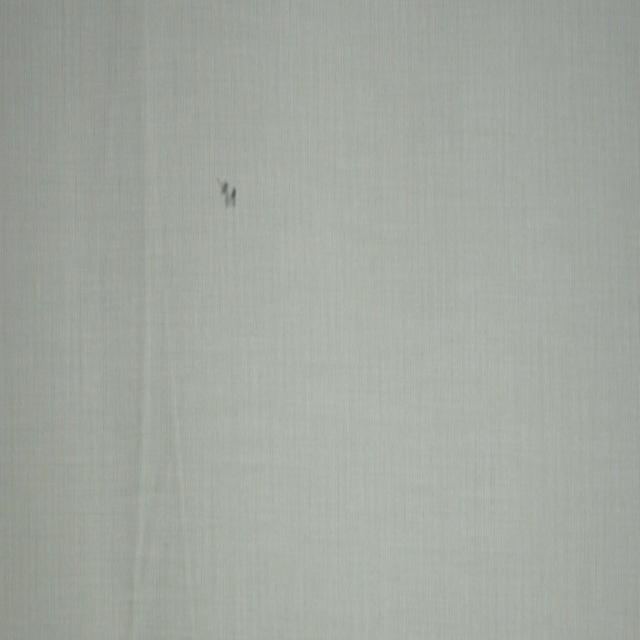dirty: (220, 180, 236, 207)
